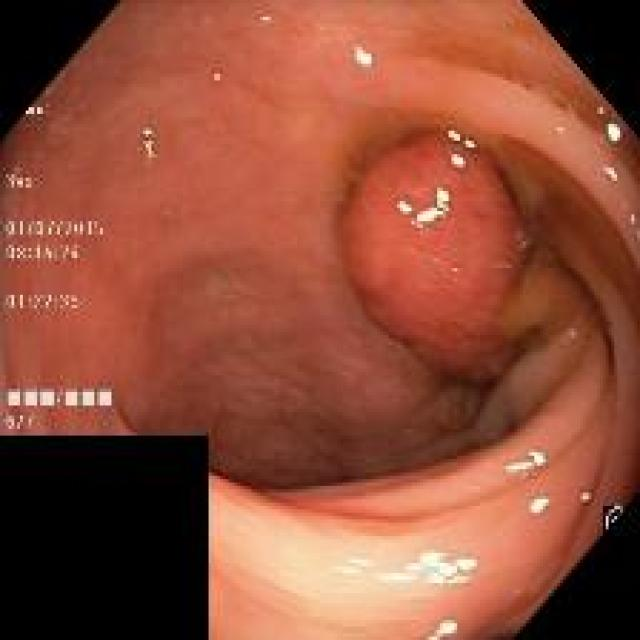Polyps: (342, 130, 529, 378)
